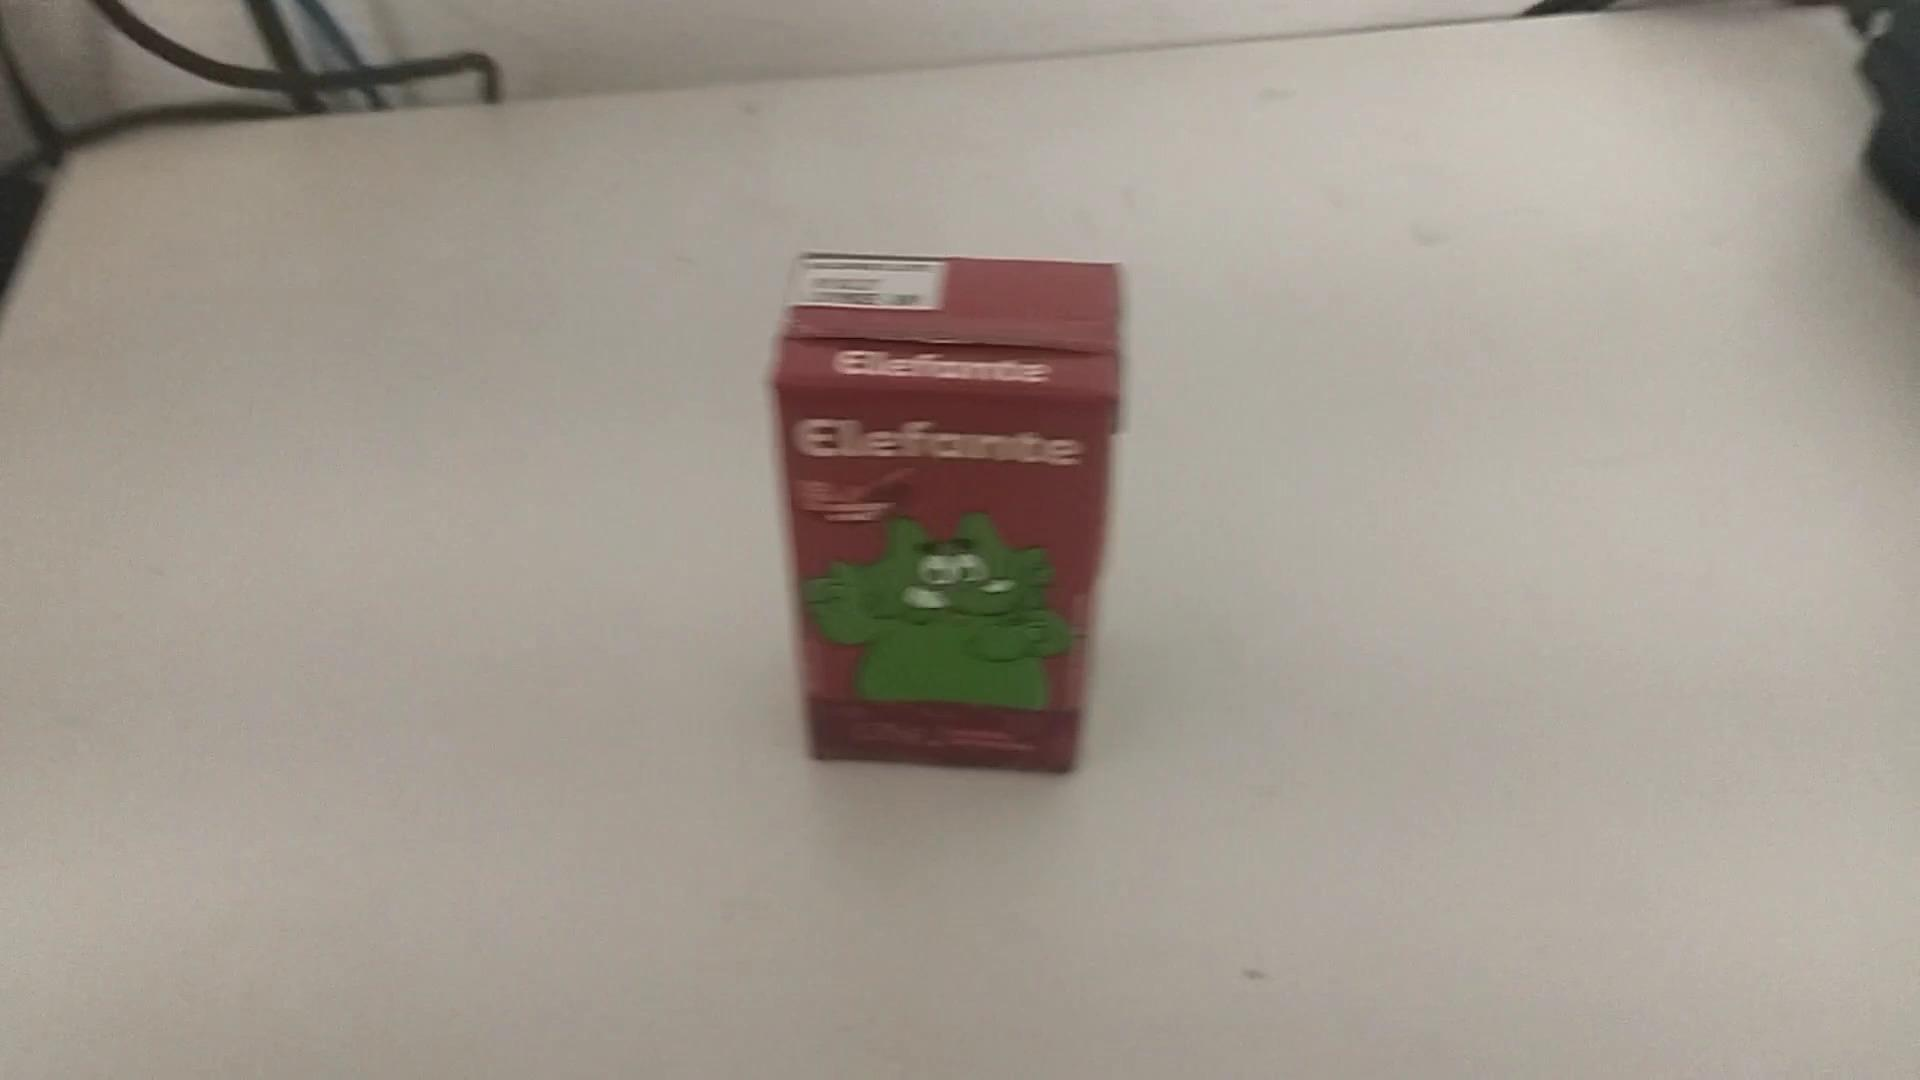tomate: (760, 243, 1135, 775)
